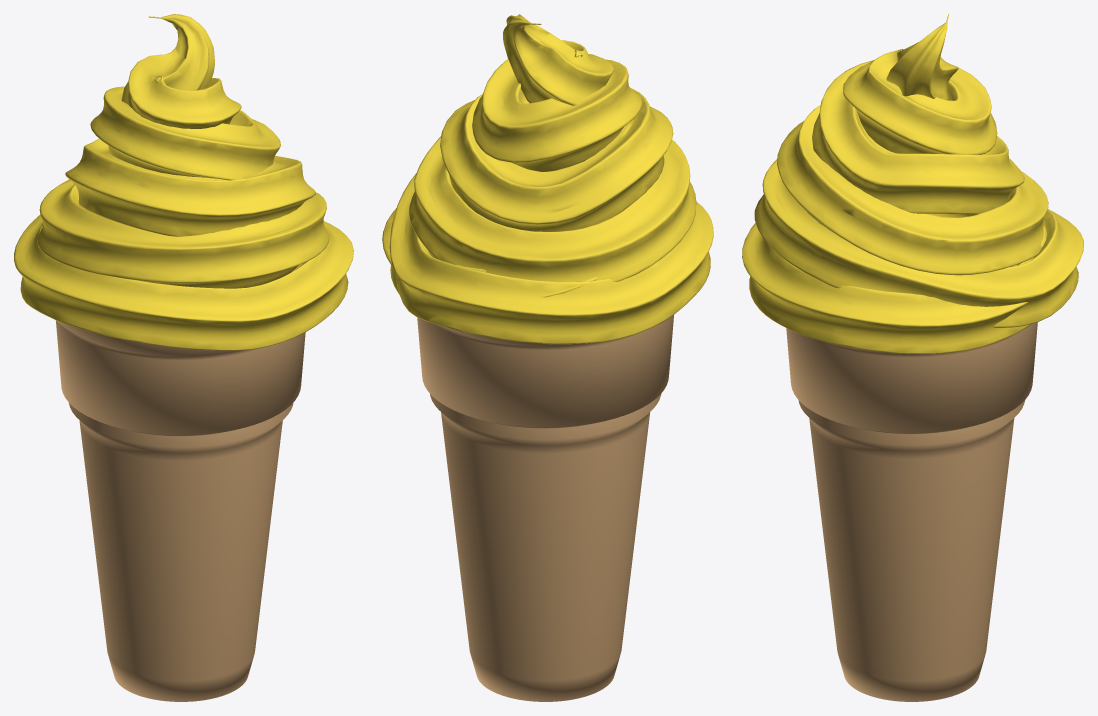
Rendered from GlassGUL.glb.
3 renders of one model, left to right at view 1: azimuth 30°, elevation 25°; view 2: azimuth 150°, elevation 25°; view 3: azimuth 270°, elevation 25°, orthographic. The views are drawn at different scales.
Visible parts, largest first — view 1: Cylinder.378; view 2: Cylinder.378; view 3: Cylinder.378.
Part boxes in pixels (<box>): Cylinder.378: <box>14,14,353,701</box>; Cylinder.378: <box>382,14,713,701</box>; Cylinder.378: <box>742,14,1083,701</box>.
Size of the model in its own units: 1.09 by 2.33 by 1.11.
